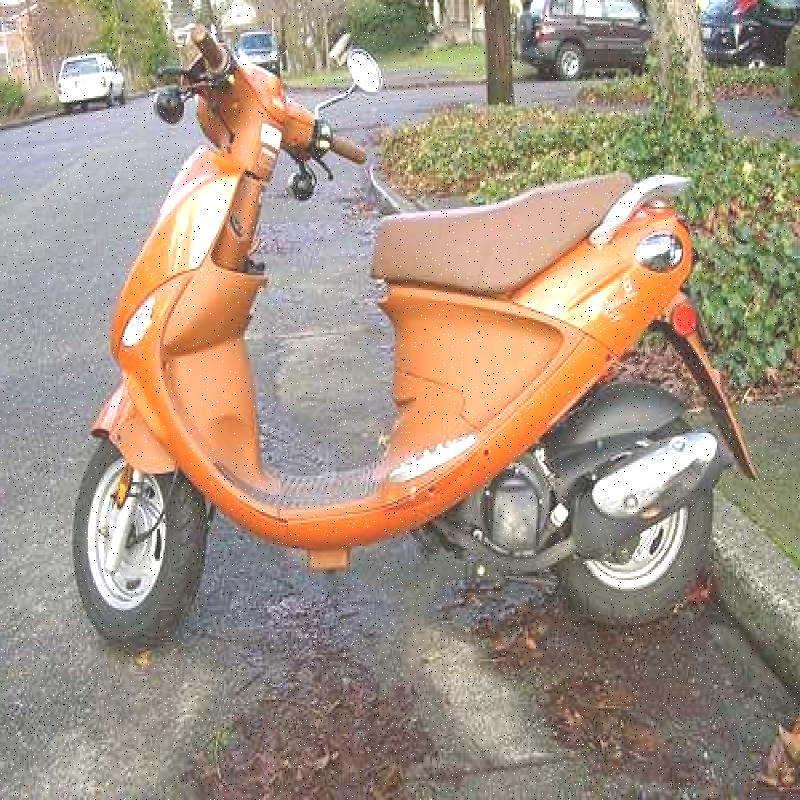bike: (67, 21, 760, 640)
